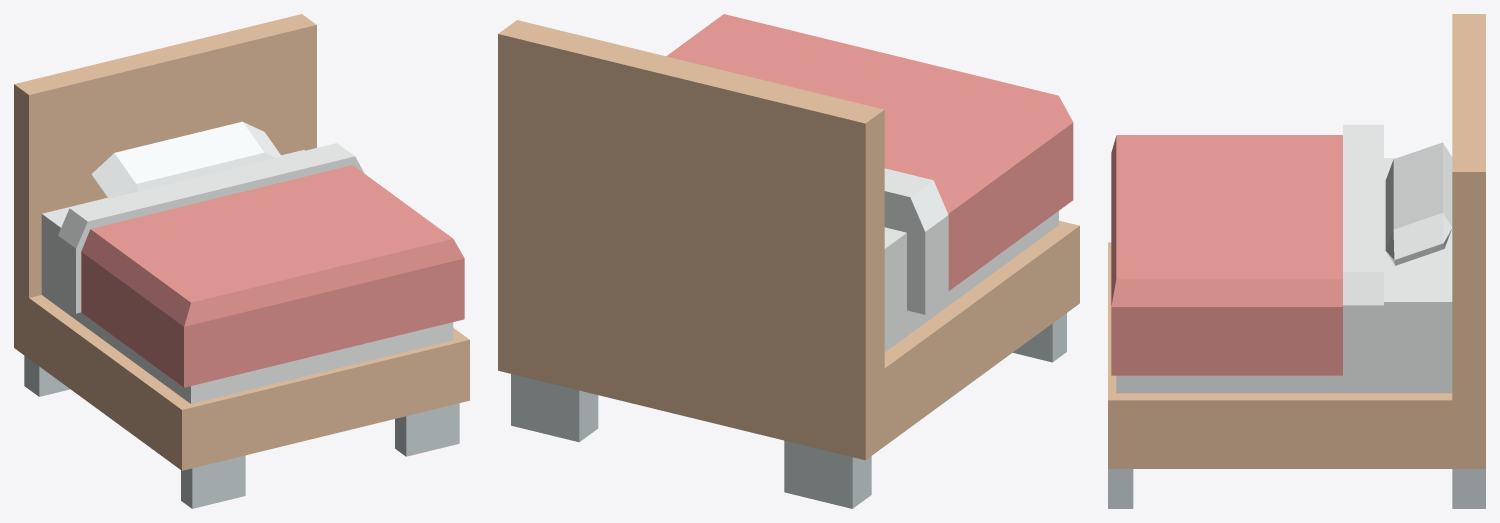
File: kn-bed-single.glb
The picture shows the model from 3 angles, left to right: view 1: azimuth 30°, elevation 25°; view 2: azimuth 150°, elevation 25°; view 3: azimuth 270°, elevation 25°; orthographic projection. The views are drawn at different scales.
Visible parts, largest first — view 1: bedSingle(Clone), cover; view 2: bedSingle(Clone), cover; view 3: bedSingle(Clone), cover.
Boxes of the visible parts, x1=… form: bedSingle(Clone): x1=14, y1=14, x2=469, y2=508; cover: x1=81, y1=165, x2=464, y2=387; bedSingle(Clone): x1=498, y1=20, x2=1079, y2=508; cover: x1=666, y1=14, x2=1073, y2=290; bedSingle(Clone): x1=1108, y1=14, x2=1485, y2=508; cover: x1=1111, y1=135, x2=1342, y2=375.
Bounding box in the file's own units: 1 × 1 × 1.
